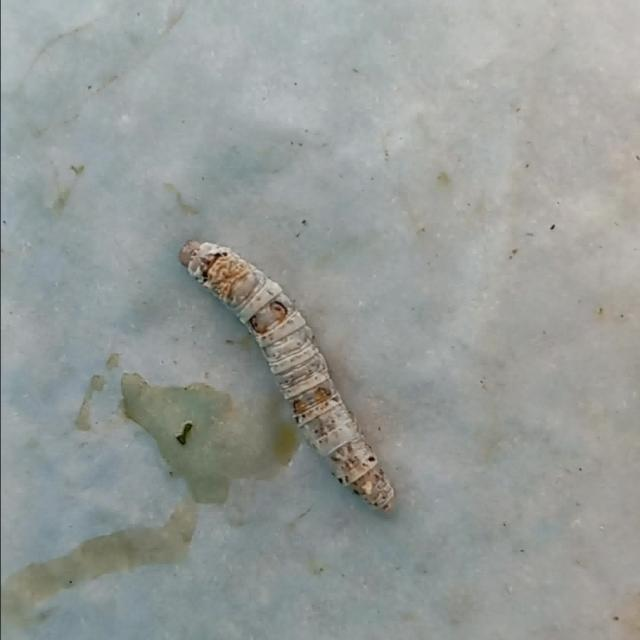Grasserie: (164, 225, 418, 526)
